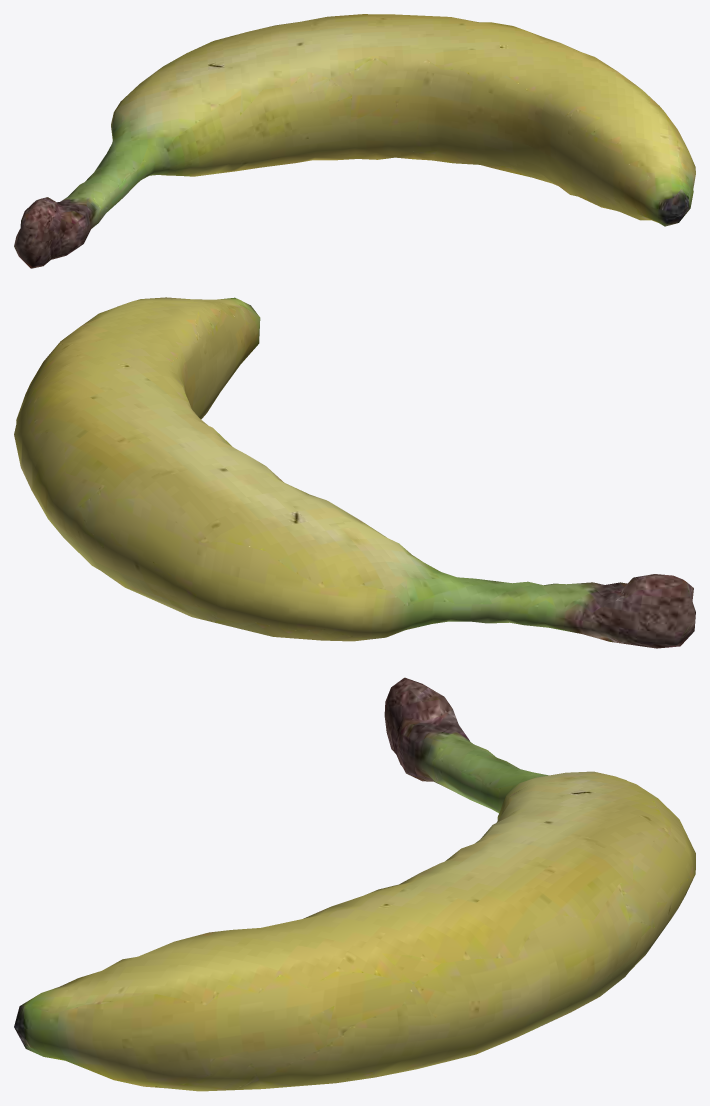
The picture shows the model from 3 angles, top to bottom: view 1: azimuth 30°, elevation 25°; view 2: azimuth 150°, elevation 25°; view 3: azimuth 270°, elevation 25°; orthographic projection. The views are drawn at different scales.
Visible parts, largest first — view 1: banana09_lr; view 2: banana09_lr; view 3: banana09_lr.
Part boxes in pixels (x1,y1,x2,y2): banana09_lr: [14, 14, 695, 268]; banana09_lr: [14, 297, 695, 648]; banana09_lr: [14, 677, 695, 1091].
Bounding box in the file's own units: 107 × 20.72 × 81.74.
1 material, 1 textured.
